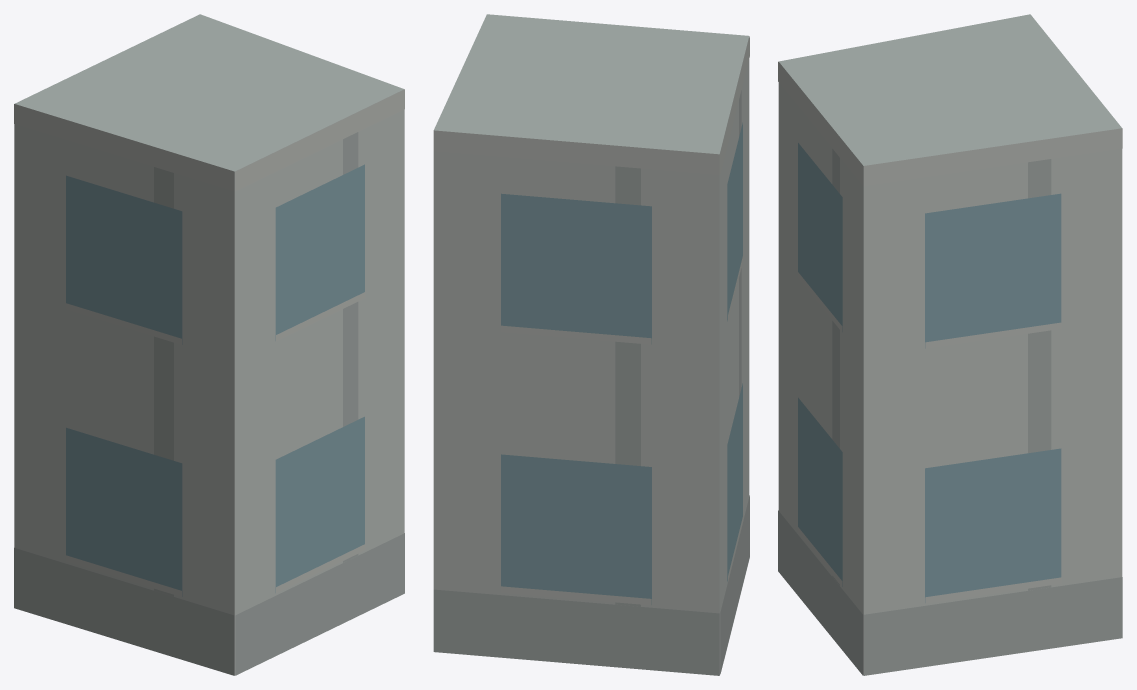
File: survey-upis-32700362.glb
3 views of the same model, side by side, from view 1: azimuth 30°, elevation 25°; view 2: azimuth 150°, elevation 25°; view 3: azimuth 270°, elevation 25° (orthographic). The views are drawn at different scales.
Parts seen in each view (by area): view 1: survey-upis-32700362.tmp; view 2: survey-upis-32700362.tmp; view 3: survey-upis-32700362.tmp.
Part boxes in pixels (x1,y1,x2,y2): survey-upis-32700362.tmp: [14, 14, 404, 675]; survey-upis-32700362.tmp: [433, 14, 749, 675]; survey-upis-32700362.tmp: [778, 14, 1122, 675].
Size of the model in its own units: 3.91 by 6.1 by 3.74.
